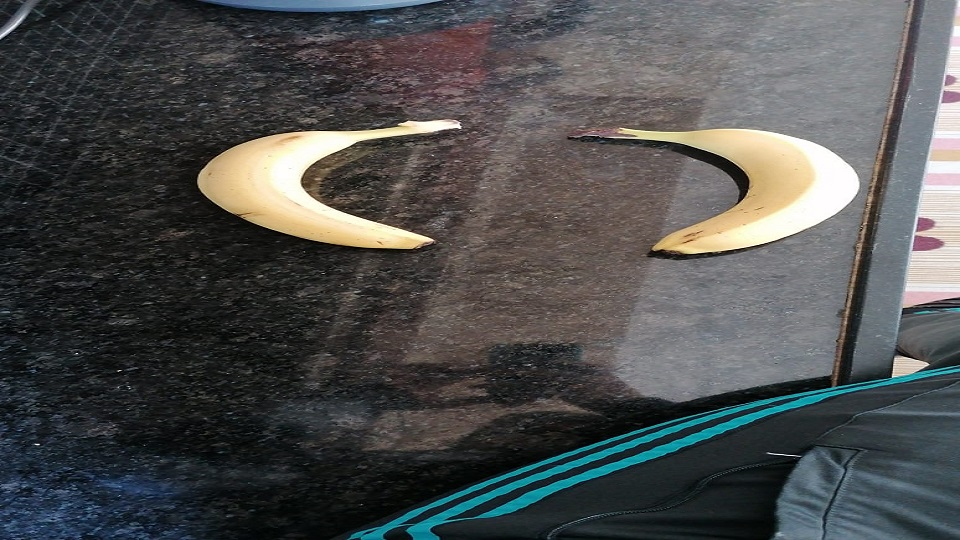muz: (593, 125, 862, 260), (195, 119, 464, 251)
